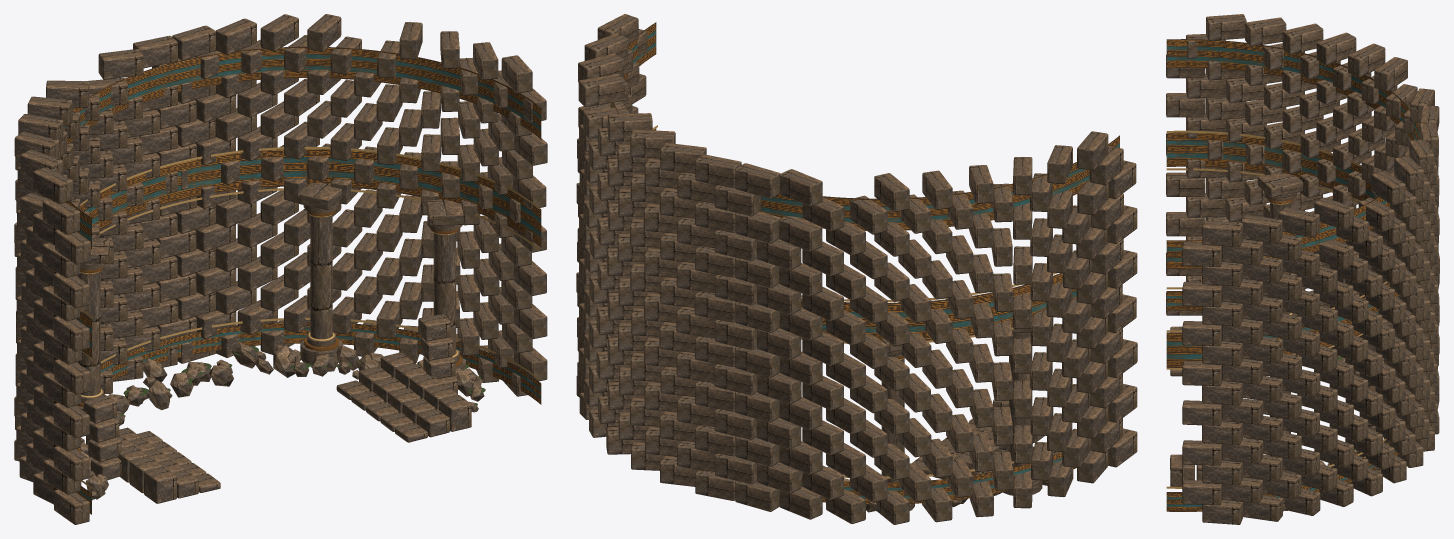
The model's file is time-ruins-architecture.glb.
The picture shows the model from 3 angles, left to right: view 1: azimuth 30°, elevation 25°; view 2: azimuth 150°, elevation 25°; view 3: azimuth 270°, elevation 25°; orthographic projection. The views are drawn at different scales.
Visible parts, largest first — view 1: time-ruins-architecture Weathered limestone, time-ruins-architecture Turquoise and gold masonry frieze, time-ruins-architecture Worn gold edges; view 2: time-ruins-architecture Weathered limestone, time-ruins-architecture Turquoise and gold masonry frieze; view 3: time-ruins-architecture Weathered limestone, time-ruins-architecture Turquoise and gold masonry frieze, time-ruins-architecture Worn gold edges.
Part boxes in pixels (x1,y1,x2,y2): time-ruins-architecture Weathered limestone: (14, 14, 547, 524); time-ruins-architecture Turquoise and gold masonry frieze: (63, 46, 541, 514); time-ruins-architecture Worn gold edges: (80, 146, 539, 489); time-ruins-architecture Weathered limestone: (576, 14, 1137, 524); time-ruins-architecture Turquoise and gold masonry frieze: (610, 22, 1119, 504); time-ruins-architecture Weathered limestone: (1166, 14, 1439, 524); time-ruins-architecture Turquoise and gold masonry frieze: (1166, 39, 1419, 511); time-ruins-architecture Worn gold edges: (1166, 130, 1387, 488).
Size of the model in its own units: 15.26 by 10 by 8.14.
Materials: 5 (3 with a texture image).
